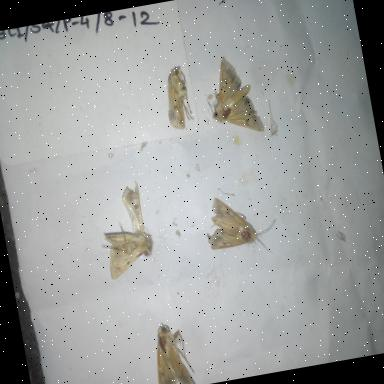abw: (92, 178, 160, 286), (200, 49, 272, 147), (196, 188, 260, 260), (145, 317, 197, 384), (155, 62, 198, 138)
